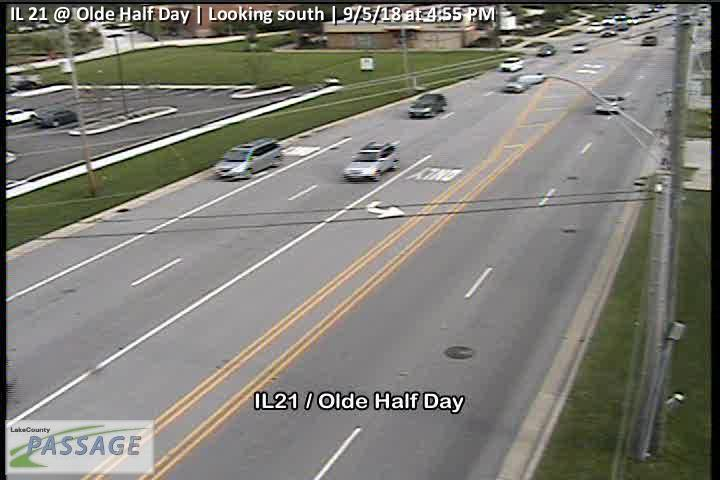SUV: (212, 136, 283, 181), (343, 140, 399, 181), (407, 93, 447, 118)
Sedan: (33, 109, 78, 127), (594, 94, 626, 114), (504, 73, 531, 93)
